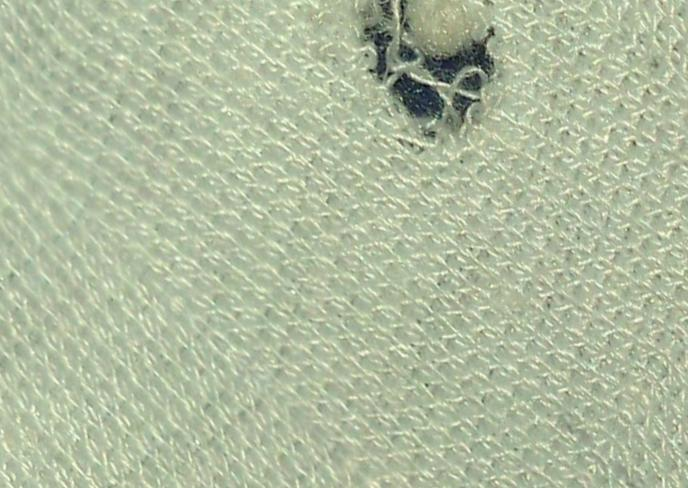hole: (357, 0, 510, 81)
